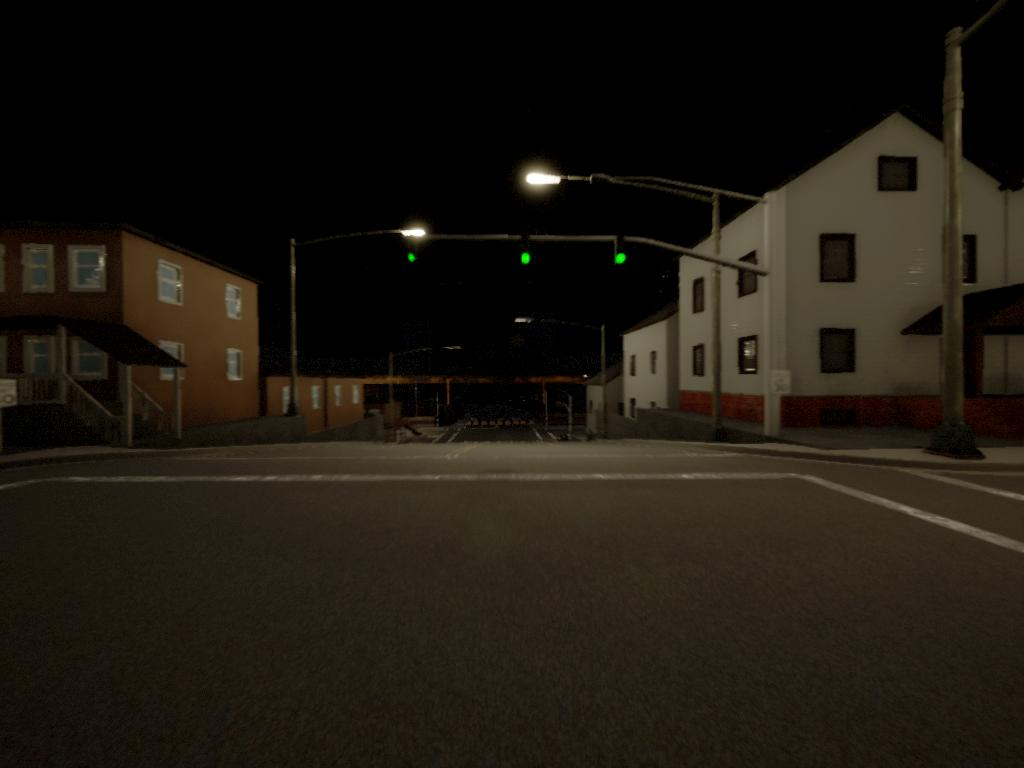traffic_light: (518, 233, 535, 274), (611, 231, 628, 270), (406, 236, 423, 270)
